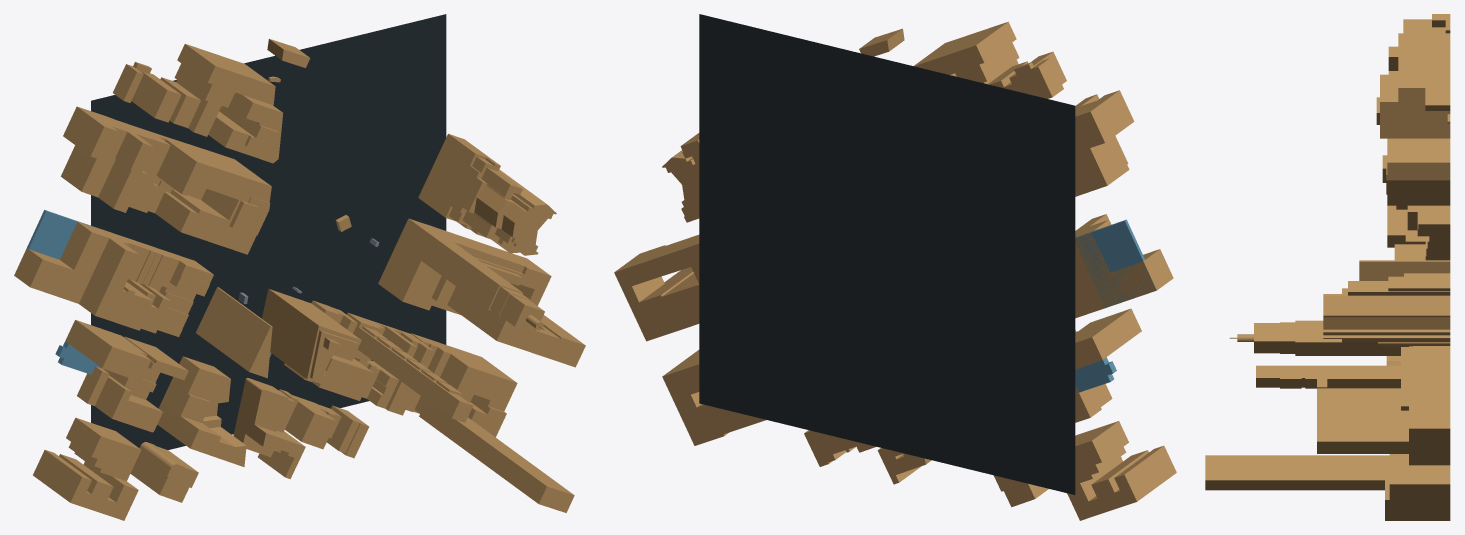
The model's file is flatiron.obj.
3 views of the same model, side by side, from view 1: azimuth 30°, elevation 25°; view 2: azimuth 150°, elevation 25°; view 3: azimuth 270°, elevation 25° (orthographic). The views are drawn at different scales.
Parts seen in each view (by area): view 1: ground, building way/288308925, building way/1484821587, building way/265038903, building way/264768942, building way/264645868, building way/158404390, building way/764237515, building way/264645808, building way/264645822, building way/286081091, building way/1524389255 (+38 smaller); view 2: ground, building way/264645822, building way/265038903, building way/264645868, building way/1255294733, building way/286081091, building way/1421877612, building way/264645879, building way/1524389255, building way/265038915, building way/265038873, building way/264645808 (+9 smaller); view 3: building way/1484821587, building way/1524389255, building way/286585842, building way/288308925, building way/265038903, building way/265038898, building way/286081091, building way/264768934, building way/286081084, building way/158404390, building way/764237515, building way/264768949 (+19 smaller).
Part boxes in pixels (x1=…): ground: x1=91, y1=14, x2=446, y2=449; building way/288308925: x1=155, y1=135, x2=271, y2=254; building way/1484821587: x1=419, y1=400, x2=574, y2=512; building way/265038903: x1=174, y1=44, x2=275, y2=136; building way/264768942: x1=262, y1=289, x2=361, y2=384; building way/264645868: x1=14, y1=221, x2=109, y2=303; building way/158404390: x1=397, y1=218, x2=523, y2=310; building way/764237515: x1=196, y1=287, x2=272, y2=378; building way/264645808: x1=79, y1=227, x2=153, y2=330; building way/264645822: x1=33, y1=450, x2=138, y2=520; building way/286081091: x1=378, y1=243, x2=551, y2=314; building way/1524389255: x1=447, y1=286, x2=585, y2=367; ground: x1=699, y1=14, x2=1075, y2=494; building way/264645822: x1=1067, y1=445, x2=1176, y2=520; building way/265038903: x1=913, y1=21, x2=1019, y2=84; building way/264645868: x1=1075, y1=220, x2=1173, y2=307; building way/1255294733: x1=1075, y1=219, x2=1156, y2=306; building way/286081091: x1=614, y1=245, x2=699, y2=341; building way/1421877612: x1=1075, y1=308, x2=1141, y2=369; building way/264645879: x1=1075, y1=421, x2=1128, y2=484; building way/1524389255: x1=635, y1=267, x2=699, y2=326; building way/265038915: x1=1075, y1=101, x2=1129, y2=191; building way/265038873: x1=1075, y1=90, x2=1134, y2=147; building way/264645808: x1=1075, y1=214, x2=1111, y2=318; building way/1484821587: x1=1205, y1=455, x2=1389, y2=490; building way/1524389255: x1=1317, y1=370, x2=1408, y2=453; building way/286585842: x1=1323, y1=294, x2=1450, y2=338; building way/288308925: x1=1387, y1=138, x2=1450, y2=205; building way/265038903: x1=1398, y1=33, x2=1450, y2=102; building way/265038898: x1=1380, y1=74, x2=1450, y2=138; building way/286081091: x1=1409, y1=346, x2=1450, y2=465; building way/264768934: x1=1389, y1=454, x2=1450, y2=499; building way/286081084: x1=1413, y1=346, x2=1450, y2=406; building way/158404390: x1=1295, y1=320, x2=1412, y2=355; building way/764237515: x1=1359, y1=260, x2=1450, y2=280; building way/264768949: x1=1385, y1=478, x2=1450, y2=520.
Bounding box in the file's own units: 487 × 403 × 237.
